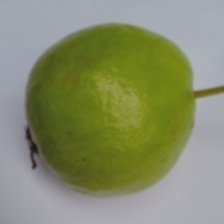guava: (9, 24, 192, 166)
